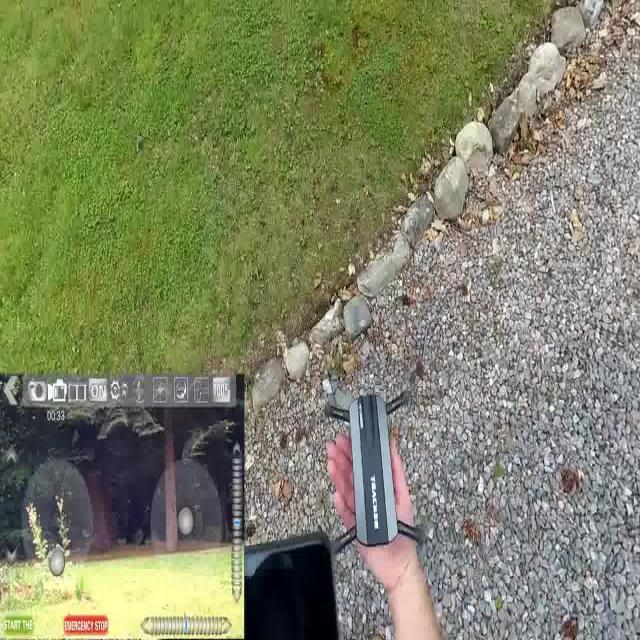Drone_FW: (318, 377, 434, 561)
